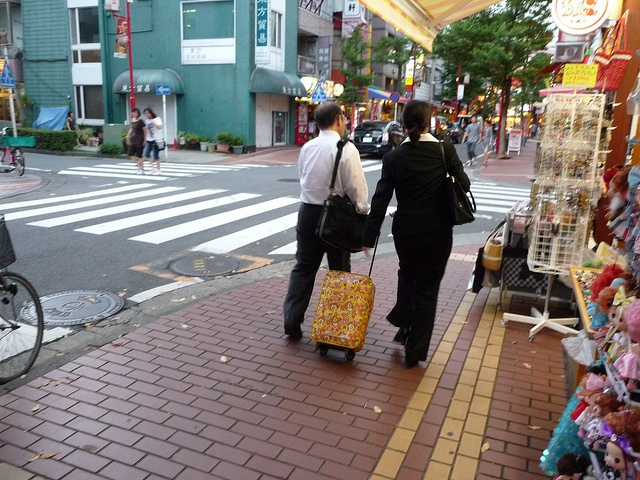non-vehicle: (0, 212, 43, 385), (0, 125, 26, 176)
